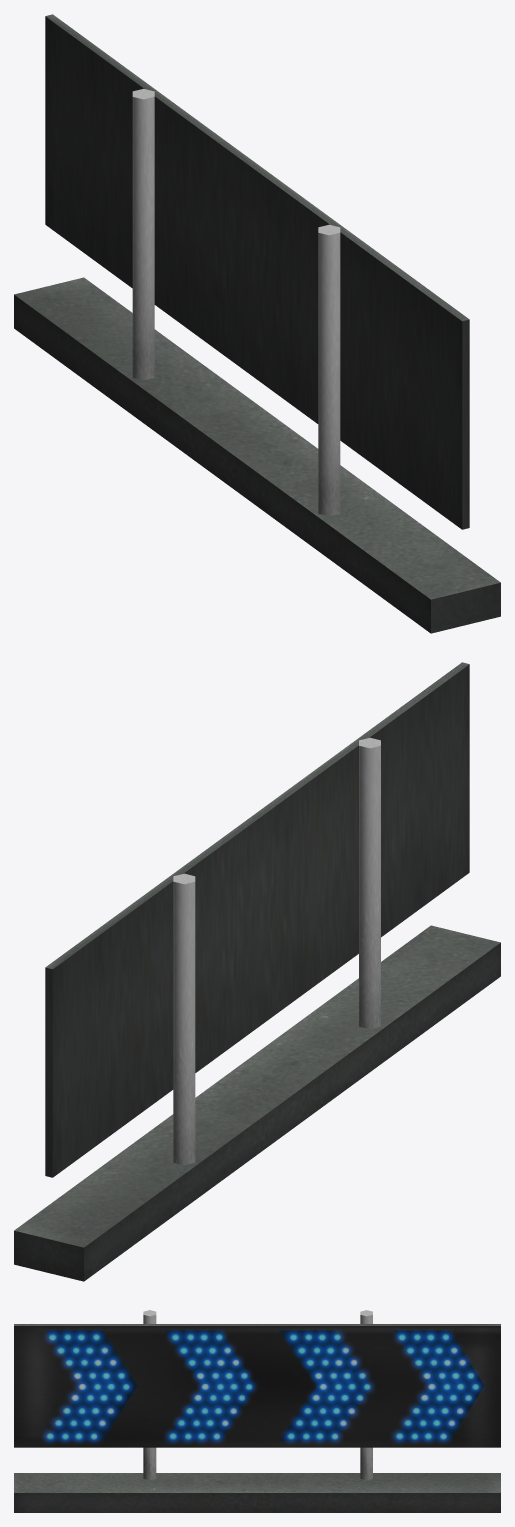
File: zhishi_A.FBX
The picture shows the model from 3 angles, top to bottom: view 1: azimuth 30°, elevation 25°; view 2: azimuth 150°, elevation 25°; view 3: azimuth 270°, elevation 25°; orthographic projection. The views are drawn at different scales.
Visible parts, largest first — view 1: zhishi_A; view 2: zhishi_A; view 3: zhishi_A.
Part boxes in pixels (<box>): zhishi_A: <box>14,14,500,633</box>; zhishi_A: <box>14,662,500,1281</box>; zhishi_A: <box>14,1310,500,1512</box>.
Bounding box in the file's own units: 15.63 × 67.19 × 161.
